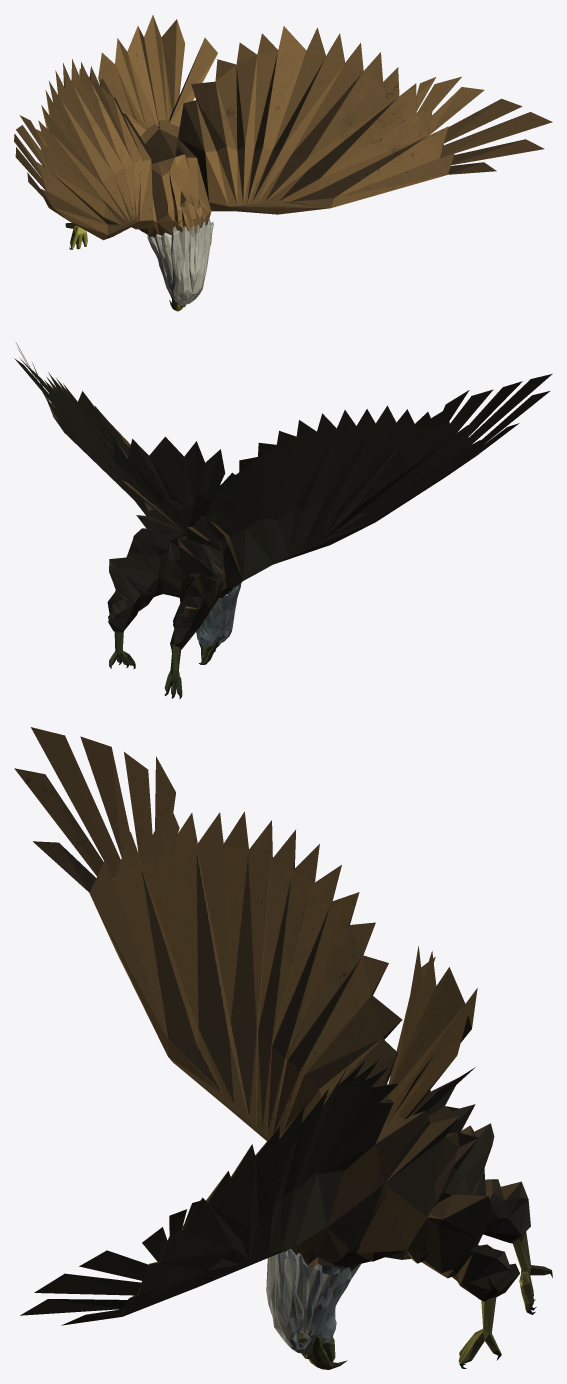
File: TalonedEagle.obj
The picture shows the model from 3 angles, top to bottom: view 1: azimuth 30°, elevation 25°; view 2: azimuth 150°, elevation 25°; view 3: azimuth 270°, elevation 25°; orthographic projection. The views are drawn at different scales.
Parts seen in each view (by area): view 1: Object.1; view 2: Object.1; view 3: Object.1.
Boxes of the visible parts, x1,y1,x2,y2 form: Object.1: (14,15,552,311); Object.1: (14,343,552,698); Object.1: (14,727,552,1369).
Bounding box in the file's own units: 22.46 × 11.45 × 12.37.
